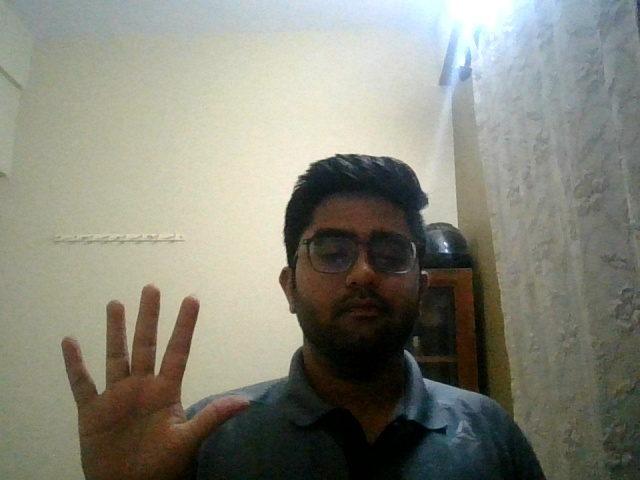Hello: (41, 268, 250, 479)
